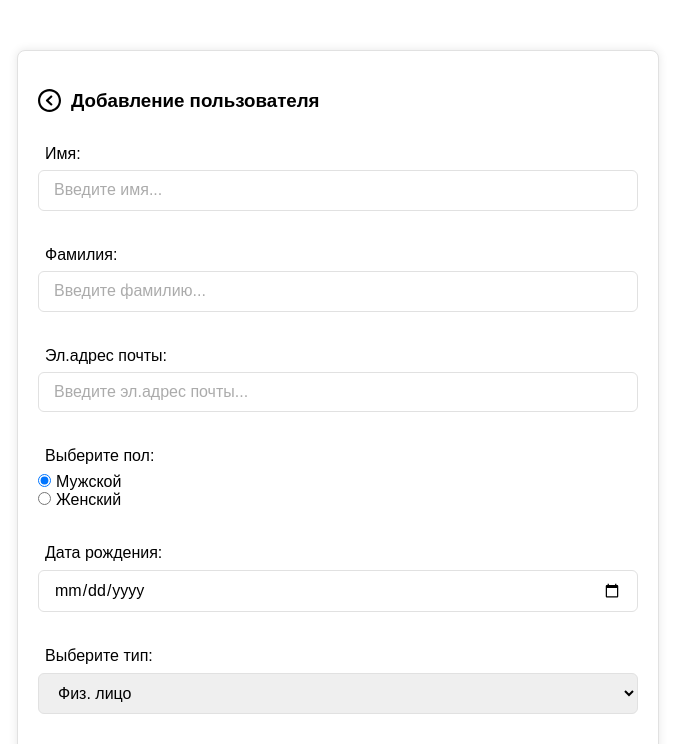
Test case: Проверка компонента UserForm › Проверка при вводе короткого количества символов поля firstName
Type "A" into the field with placeholder "Введите имя...". click: (338, 190)
box: top-left (38, 170), bottom-right (638, 211)
(page scrolled)
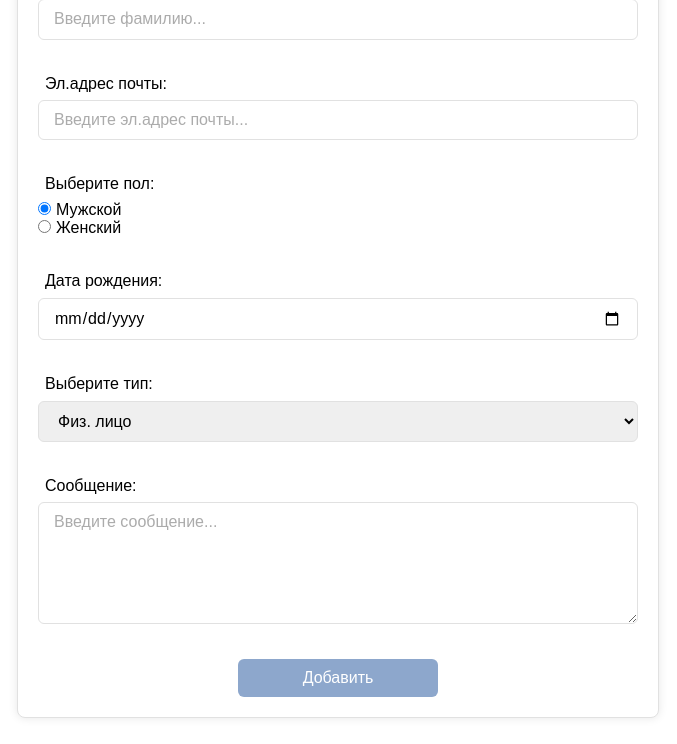
Click the button "Добавить". click: (338, 678)
box: top-left (238, 659), bottom-right (438, 697)
(page scrolled)
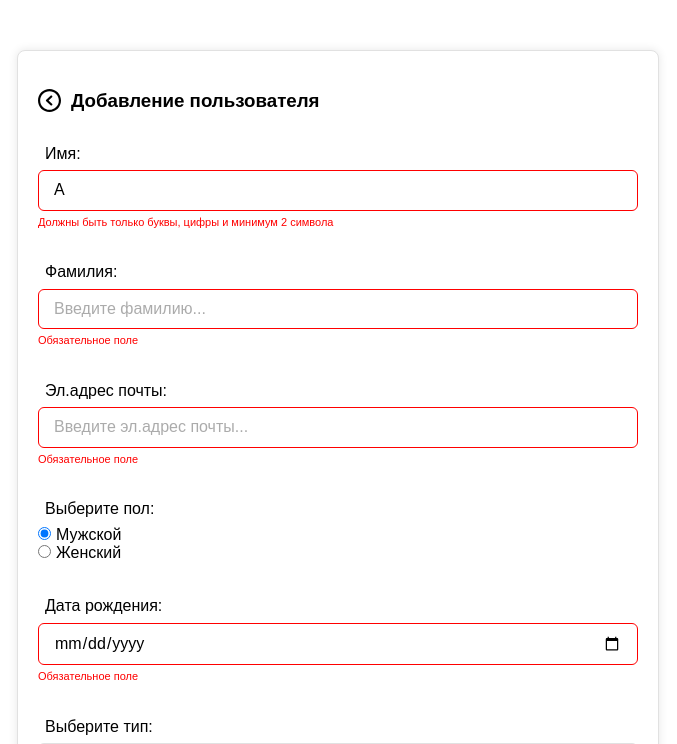
Expected: the text "Должны быть только буквы, цифры и минимум 2 символа" is shown, top-left (38, 216), bottom-right (334, 228)
